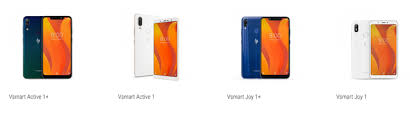vsmart: (136, 12, 189, 85), (238, 13, 291, 86), (350, 13, 403, 86), (21, 10, 74, 83)
